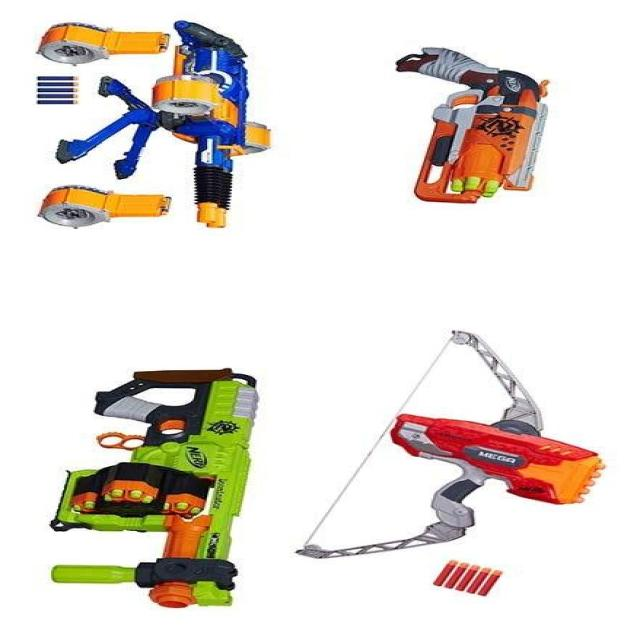Nerf gun: (304, 346, 612, 575), (34, 363, 278, 614), (49, 20, 275, 226), (388, 39, 560, 212)
